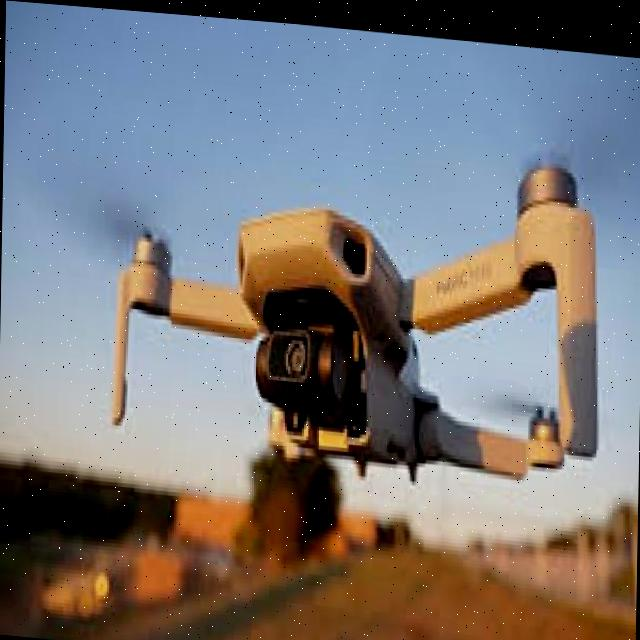drone: (46, 78, 640, 515)
